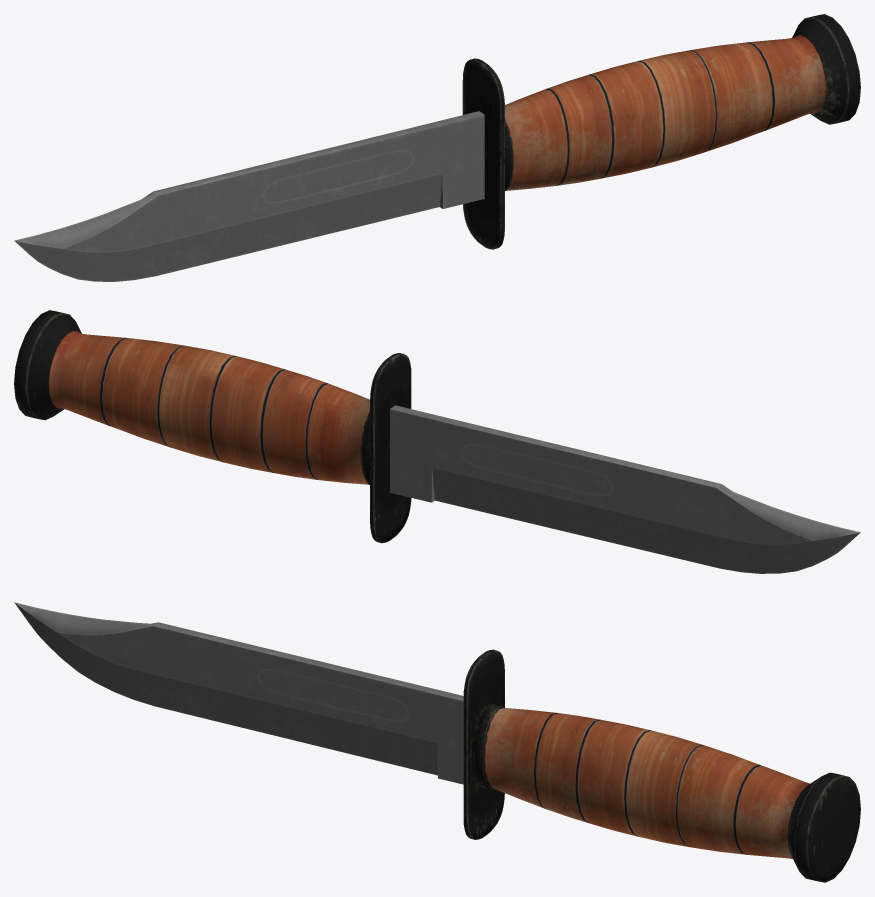
File: modelo_3d_faca_tatica_autodesk_3ds_max.glb
3 renders of one model, top to bottom at view 1: azimuth 30°, elevation 25°; view 2: azimuth 150°, elevation 25°; view 3: azimuth 330°, elevation 25°, orthographic.
Parts seen in each view (by area): view 1: faca_low; view 2: faca_low; view 3: faca_low.
Boxes of the visible parts, x1,y1,x2,y2 form: faca_low: (14, 14, 860, 281); faca_low: (14, 310, 860, 573); faca_low: (14, 602, 860, 882).
Size of the model in its own units: 78.6 by 16.53 by 9.15.
Materials: 1 (1 with a texture image).
